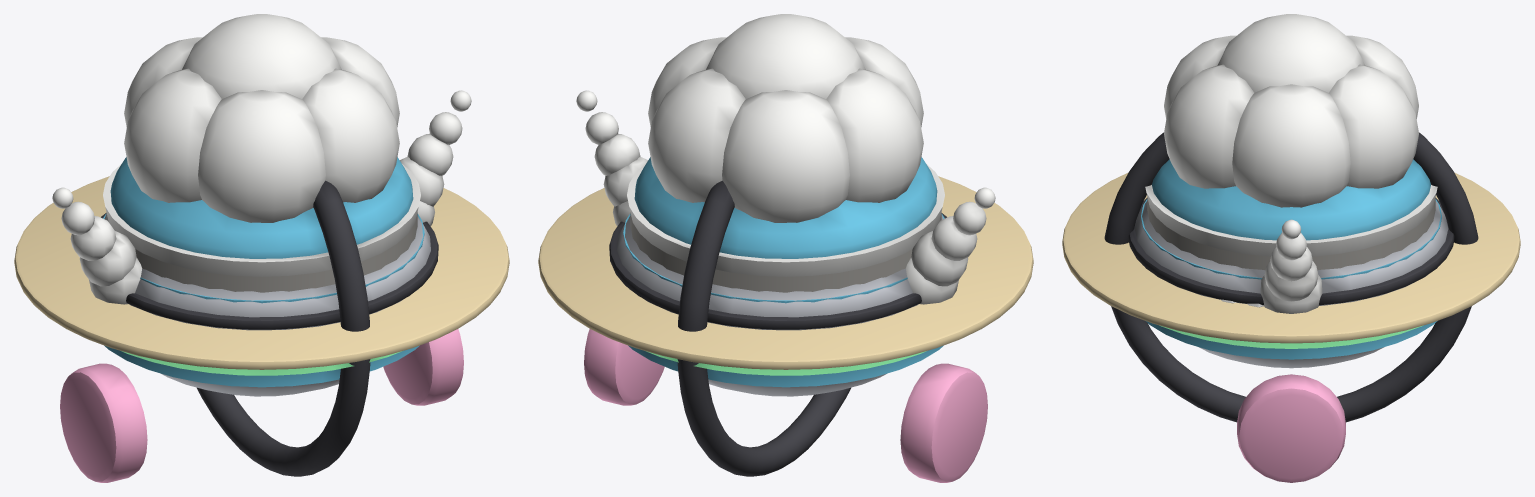
The model's file is hats.glb.
The picture shows the model from 3 angles, left to right: view 1: azimuth 30°, elevation 25°; view 2: azimuth 150°, elevation 25°; view 3: azimuth 270°, elevation 25°; orthographic projection. The views are drawn at different scales.
Parts seen in each view (by area): view 1: hat_chef, hat_sunhat, hat_phones, hat_beanie, hat_viking, hat_sailor, hat_tophat, hat_bucket; view 2: hat_chef, hat_sunhat, hat_phones, hat_beanie, hat_viking, hat_sailor, hat_tophat, hat_bucket; view 3: hat_chef, hat_sunhat, hat_phones, hat_beanie, hat_viking, hat_sailor, hat_tophat, hat_bucket.
Part boxes in pixels (left/top/right/bottom): hat_chef: left=124, top=14, right=399, bottom=222; hat_sunhat: left=14, top=176, right=509, bottom=369; hat_phones: left=60, top=180, right=463, bottom=482; hat_beanie: left=103, top=157, right=424, bottom=387; hat_viking: left=52, top=90, right=471, bottom=396; hat_sailor: left=103, top=163, right=420, bottom=276; hat_tophat: left=101, top=213, right=438, bottom=329; hat_bucket: left=121, top=351, right=401, bottom=375; hat_chef: left=648, top=14, right=923, bottom=222; hat_sunhat: left=538, top=176, right=1033, bottom=369; hat_phones: left=584, top=180, right=987, bottom=482; hat_beanie: left=623, top=157, right=944, bottom=387; hat_viking: left=576, top=90, right=995, bottom=396; hat_sailor: left=627, top=163, right=944, bottom=276; hat_tophat: left=609, top=213, right=946, bottom=329; hat_bucket: left=646, top=351, right=926, bottom=375; hat_chef: left=1164, top=14, right=1418, bottom=207; hat_sunhat: left=1062, top=172, right=1520, bottom=343; hat_phones: left=1104, top=132, right=1478, bottom=482; hat_beanie: left=1141, top=159, right=1441, bottom=359; hat_viking: left=1134, top=201, right=1448, bottom=368; hat_sailor: left=1145, top=185, right=1437, bottom=256; hat_tophat: left=1128, top=198, right=1454, bottom=305; hat_bucket: left=1159, top=325, right=1423, bottom=348.
Bounding box in the file's own units: 0.84 × 0.825 × 0.84.
